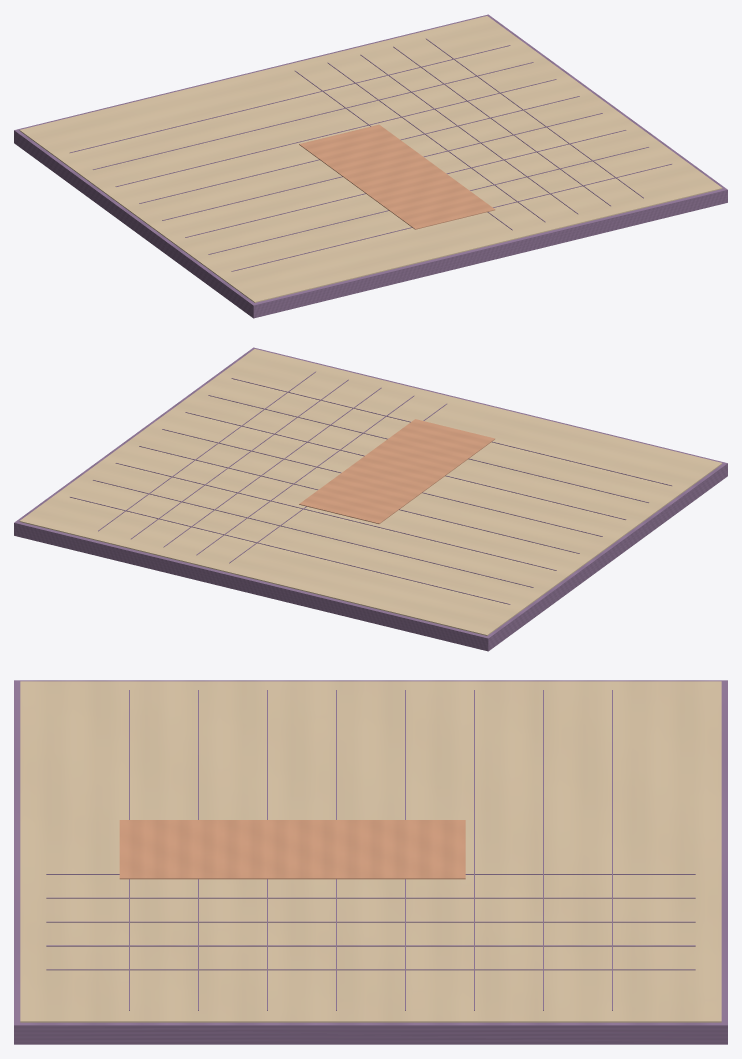
The model's file is atlas100-s083-a07.lod2.glb.
3 views of the same model, one above another, from view 1: azimuth 30°, elevation 25°; view 2: azimuth 150°, elevation 25°; view 3: azimuth 270°, elevation 25° (orthographic). The views are drawn at different scales.
Visible parts, largest first — view 1: atlas100-s083-a07:part-001, atlas100-s083-a07:part-000, atlas100-s083-a07:part-021, atlas100-s083-a07:part-013, atlas100-s083-a07:part-014, atlas100-s083-a07:part-015, atlas100-s083-a07:part-020, atlas100-s083-a07:part-018, atlas100-s083-a07:part-019, atlas100-s083-a07:part-017, atlas100-s083-a07:part-016; view 2: atlas100-s083-a07:part-001, atlas100-s083-a07:part-000, atlas100-s083-a07:part-021, atlas100-s083-a07:part-013, atlas100-s083-a07:part-014, atlas100-s083-a07:part-015, atlas100-s083-a07:part-019, atlas100-s083-a07:part-020, atlas100-s083-a07:part-016, atlas100-s083-a07:part-018, atlas100-s083-a07:part-017; view 3: atlas100-s083-a07:part-001, atlas100-s083-a07:part-000, atlas100-s083-a07:part-021, atlas100-s083-a07:part-010, atlas100-s083-a07:part-011, atlas100-s083-a07:part-012, atlas100-s083-a07:part-009.
Boxes of the visible parts, x1,y1,x2,y2 form: atlas100-s083-a07:part-001: (19,16,722,302); atlas100-s083-a07:part-000: (14,14,727,318); atlas100-s083-a07:part-021: (299,124,495,229); atlas100-s083-a07:part-013: (70,45,510,152); atlas100-s083-a07:part-014: (93,62,533,169); atlas100-s083-a07:part-015: (115,79,556,186); atlas100-s083-a07:part-020: (231,164,671,271); atlas100-s083-a07:part-018: (185,130,626,237); atlas100-s083-a07:part-019: (208,147,648,254); atlas100-s083-a07:part-017: (162,113,602,220); atlas100-s083-a07:part-016: (139,96,579,203); atlas100-s083-a07:part-001: (19,349,722,635); atlas100-s083-a07:part-000: (14,347,727,651); atlas100-s083-a07:part-021: (299,419,494,523); atlas100-s083-a07:part-013: (70,497,510,604); atlas100-s083-a07:part-014: (93,480,533,587); atlas100-s083-a07:part-015: (115,463,556,570); atlas100-s083-a07:part-019: (208,395,648,502); atlas100-s083-a07:part-020: (231,378,671,485); atlas100-s083-a07:part-016: (139,446,579,553); atlas100-s083-a07:part-018: (185,412,626,519); atlas100-s083-a07:part-017: (162,429,602,536); atlas100-s083-a07:part-001: (20,681,721,1022); atlas100-s083-a07:part-000: (14,680,727,1044); atlas100-s083-a07:part-021: (119,820,465,879); atlas100-s083-a07:part-010: (46,921,695,922); atlas100-s083-a07:part-011: (46,945,695,946); atlas100-s083-a07:part-012: (46,969,695,970); atlas100-s083-a07:part-009: (46,897,695,898).
Size of the model in its own units: 13.02 by 0.404 by 11.39.
Materials: 3 (3 with a texture image).
